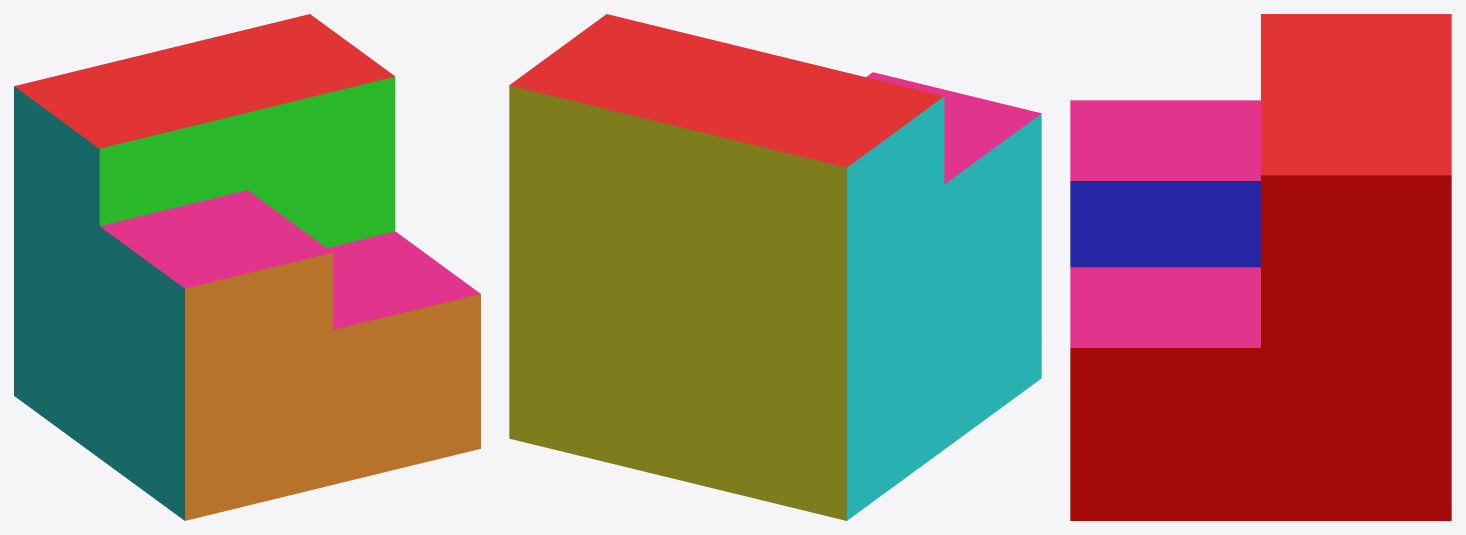
3 renders of one model, left to right at view 1: azimuth 30°, elevation 25°; view 2: azimuth 150°, elevation 25°; view 3: azimuth 270°, elevation 25°, orthographic. The views are drawn at different scales.
Visible parts, largest first — view 1: G-Object.001; view 2: G-Object.001; view 3: G-Object.001.
Part boxes in pixels (<box>): G-Object.001: <box>14,14,480,520</box>; G-Object.001: <box>509,14,1041,520</box>; G-Object.001: <box>1070,14,1451,520</box>.
Size of the model in its own units: 0.6096 by 0.6096 by 0.6096.
